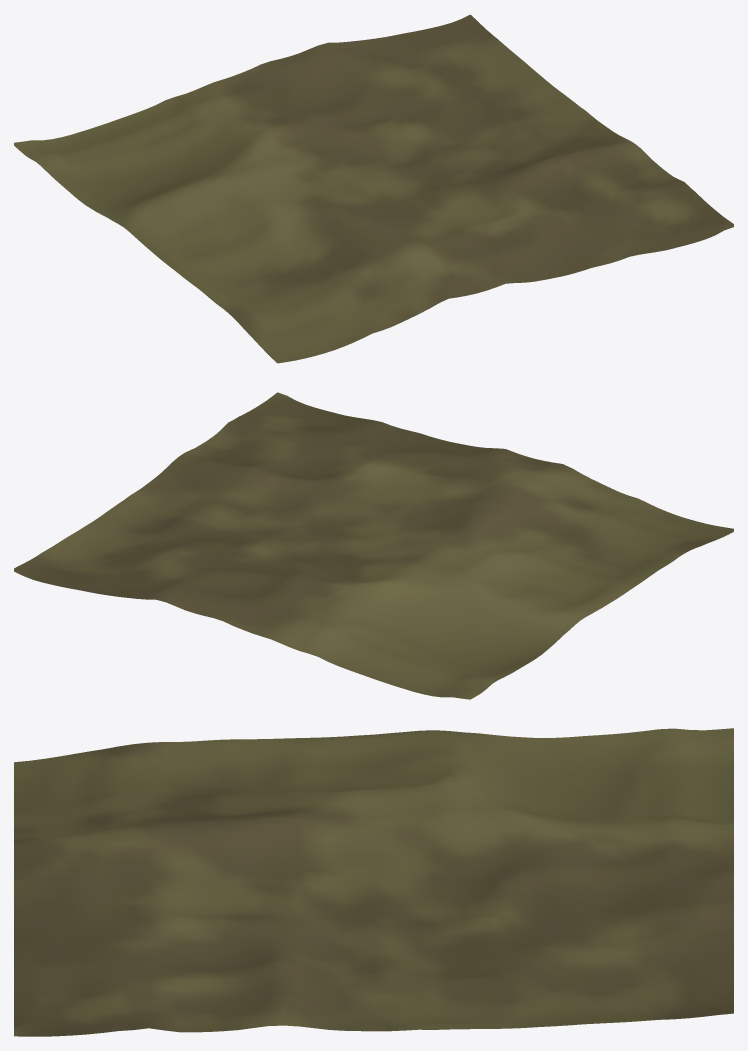
Rendered from land_m_14_07.glb.
The picture shows the model from 3 angles, top to bottom: view 1: azimuth 30°, elevation 25°; view 2: azimuth 150°, elevation 25°; view 3: azimuth 270°, elevation 25°; orthographic projection. The views are drawn at different scales.
Parts seen in each view (by area): view 1: land_m_14_07; view 2: land_m_14_07; view 3: land_m_14_07.
Part boxes in pixels (x1,y1,x2,y2): land_m_14_07: (14,14,733,363); land_m_14_07: (14,392,733,699); land_m_14_07: (14,728,733,1036).
Size of the model in its own units: 960 by 107 by 960.
